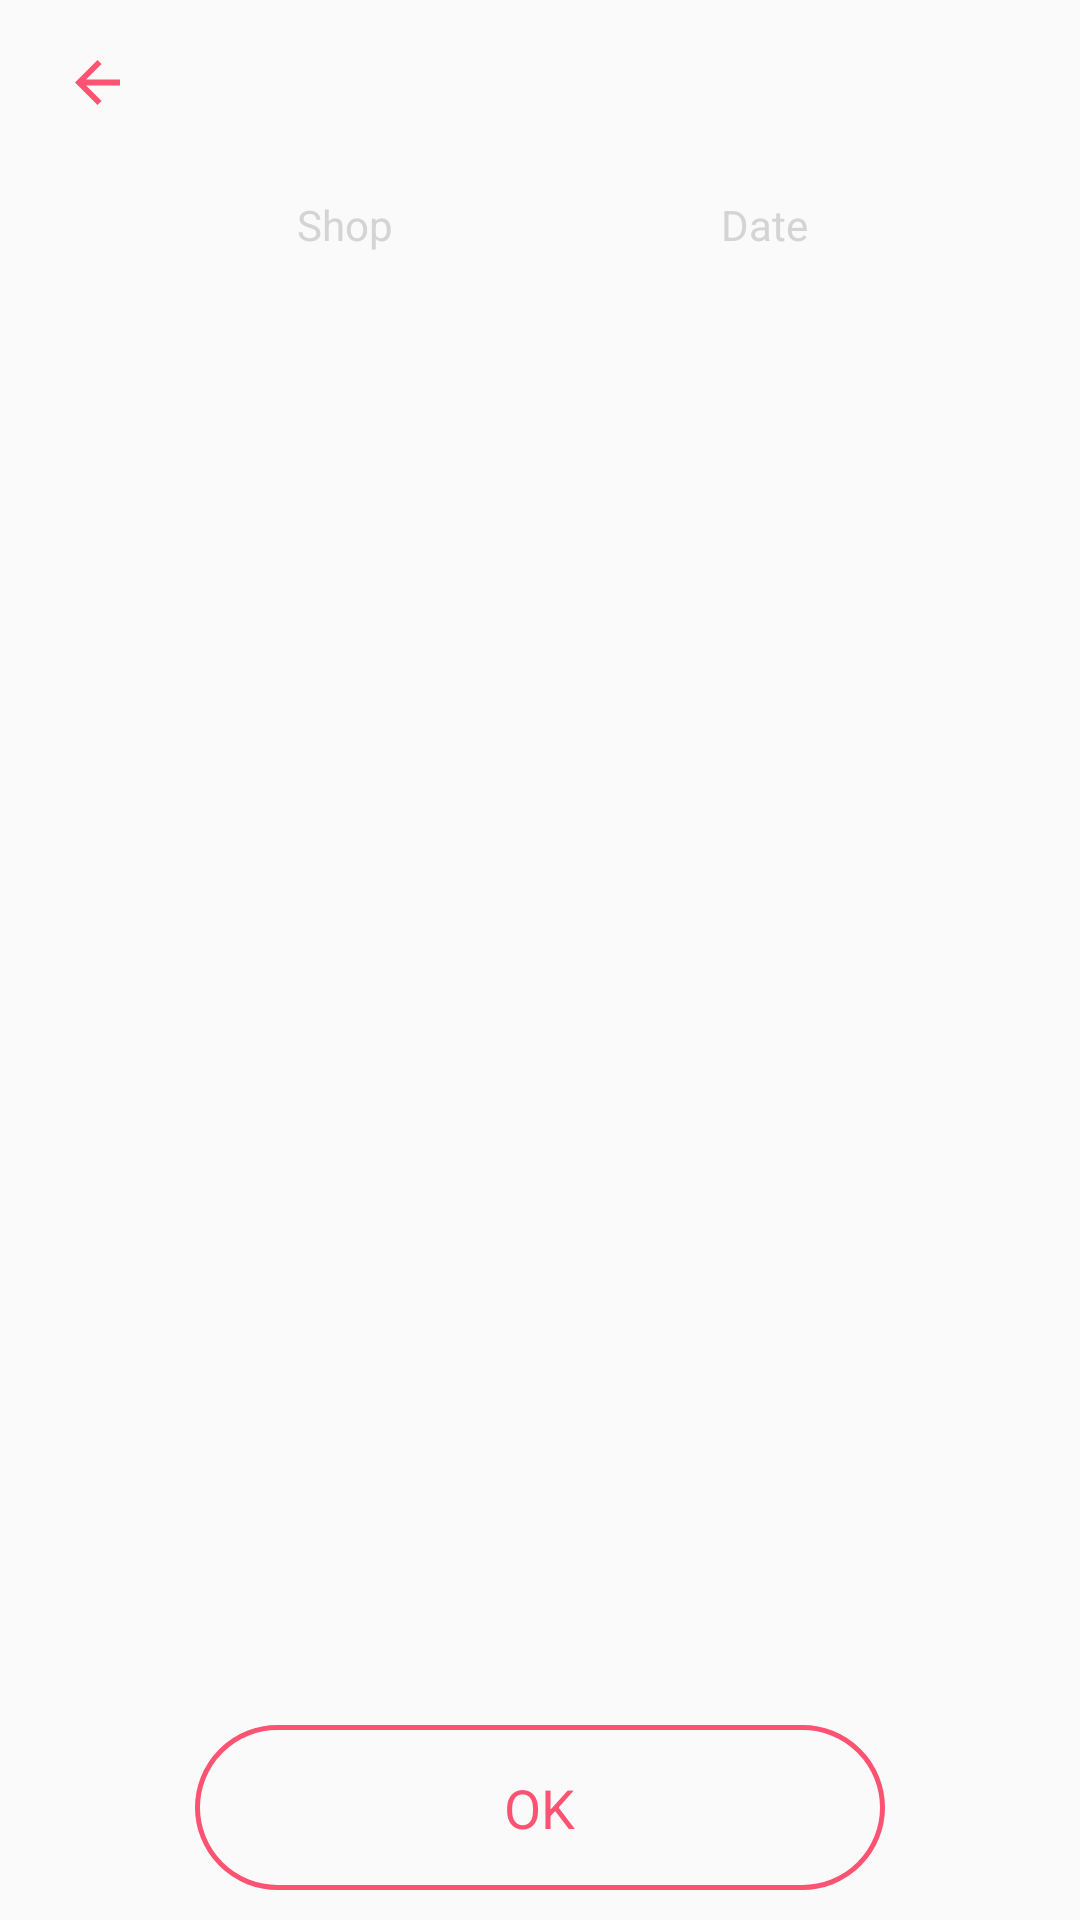

Locate icon controls on the screen. Image size 1080 x 1920, boxes as (x1, y1, x2, y2).
backward: (75, 60, 120, 105)
